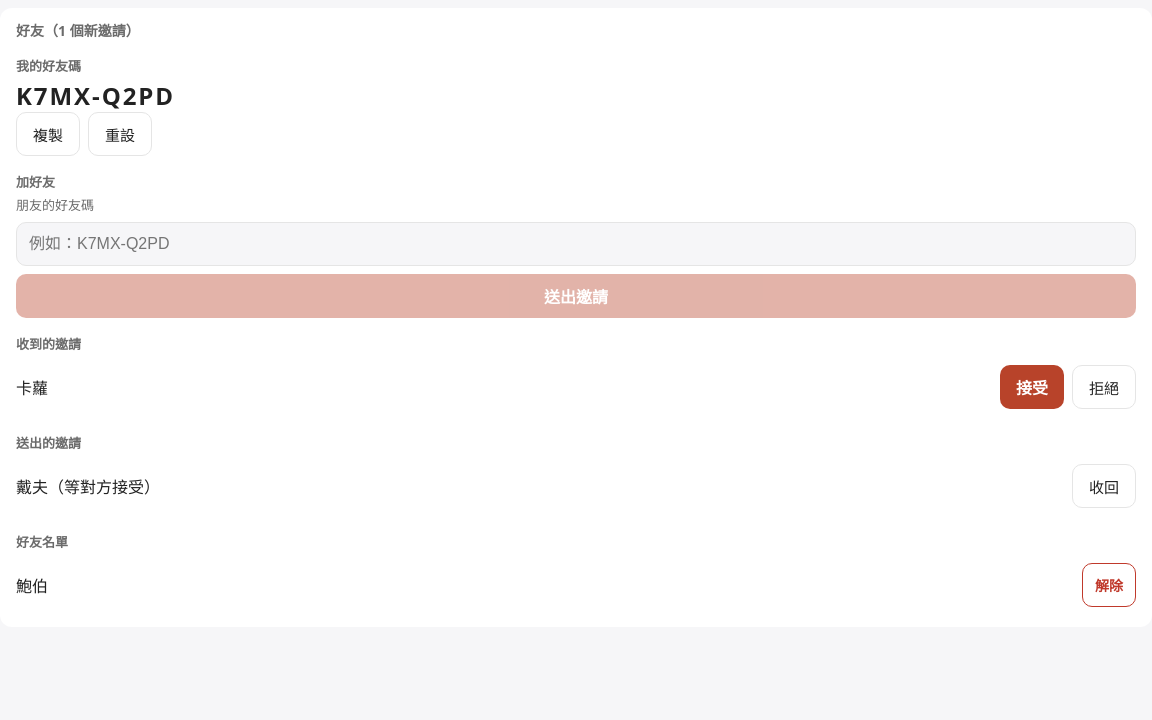
Scenario: 好友卡片 › 送出邀請：送輸入的碼，成功之後清空並重新載入邀請
The width and height of the screenshot is (1152, 720).
Expected: the text "K7MX-Q2PD" is shown, 16,79 -> 175,112
In the field labelled "朋友的好友碼": (576, 244) 16,222 -> 1136,266, type "abcd-efgh"
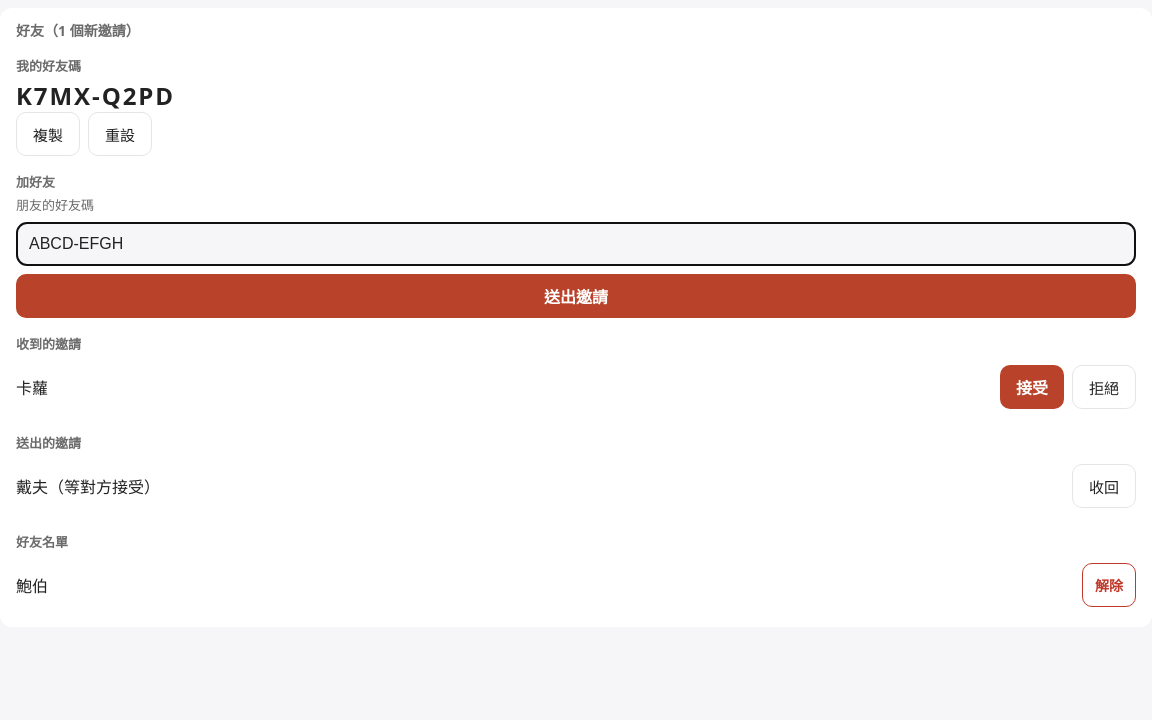
Click the button "送出邀請": (576, 296) 16,274 -> 1136,318
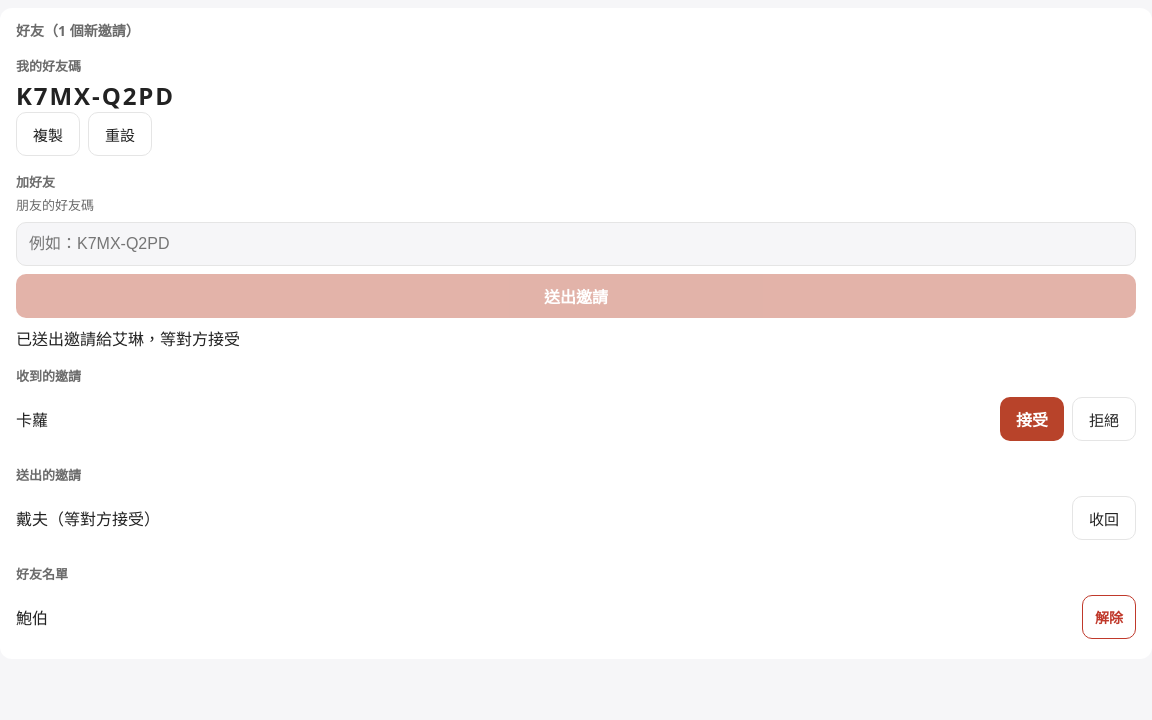
Now the text "已送出邀請給艾琳，等對方接受" is shown, box 16,328 -> 240,350
Now the field labelled "朋友的好友碼" is empty, box 16,222 -> 1136,266
